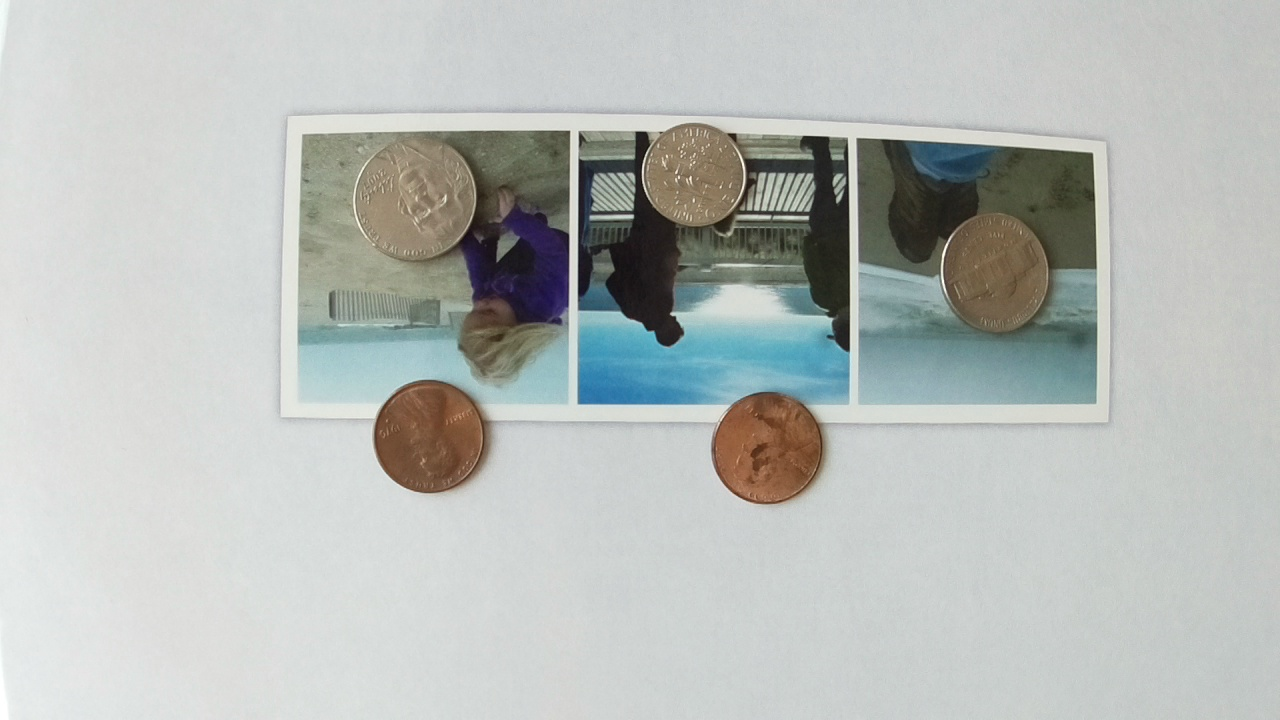dime: (640, 122, 748, 228)
nickel: (345, 138, 483, 260), (931, 212, 1059, 332)
penny: (370, 378, 488, 496), (708, 389, 826, 507)
